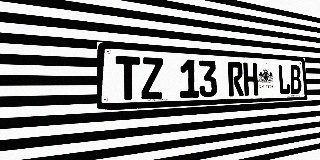1: (179, 59, 199, 98)
3: (199, 60, 217, 97)
B: (289, 65, 302, 94)
H: (243, 62, 258, 96)
L: (278, 64, 291, 95)
R: (228, 62, 244, 96)
T: (116, 56, 140, 100)
Z: (141, 57, 164, 100)
